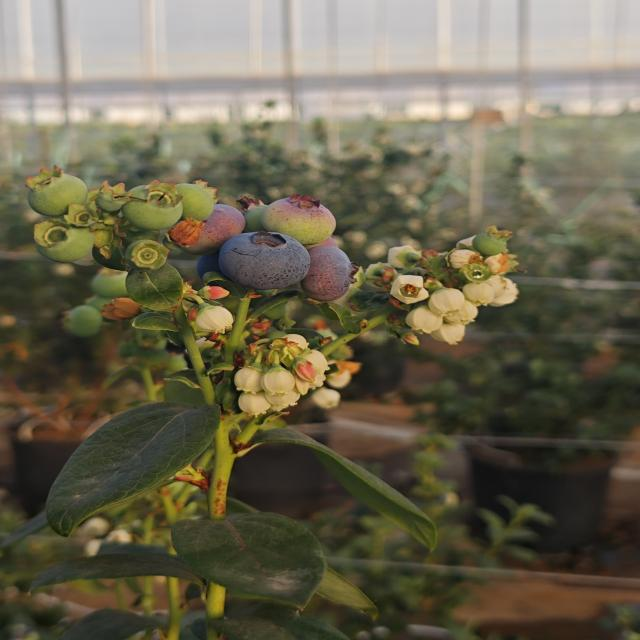ripe: (215, 227, 314, 293), (191, 240, 250, 294)
